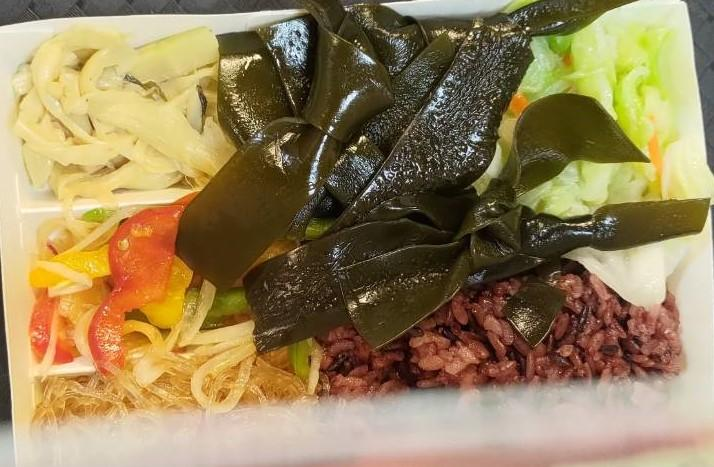big grilled chicken leg: (2, 0, 714, 467)
braised fish: (329, 264, 688, 430)
braised fish fillet: (217, 19, 694, 305), (485, 20, 670, 212), (25, 214, 270, 353), (15, 43, 230, 188), (35, 363, 304, 455)
